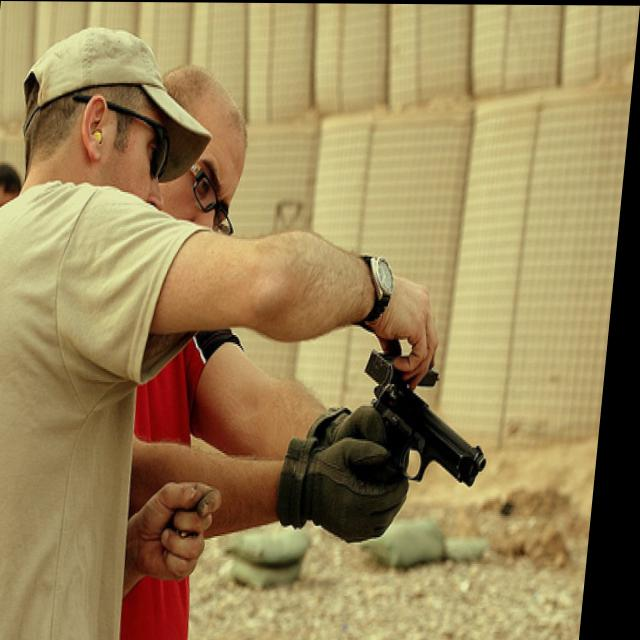handgun: (373, 364, 502, 501)
